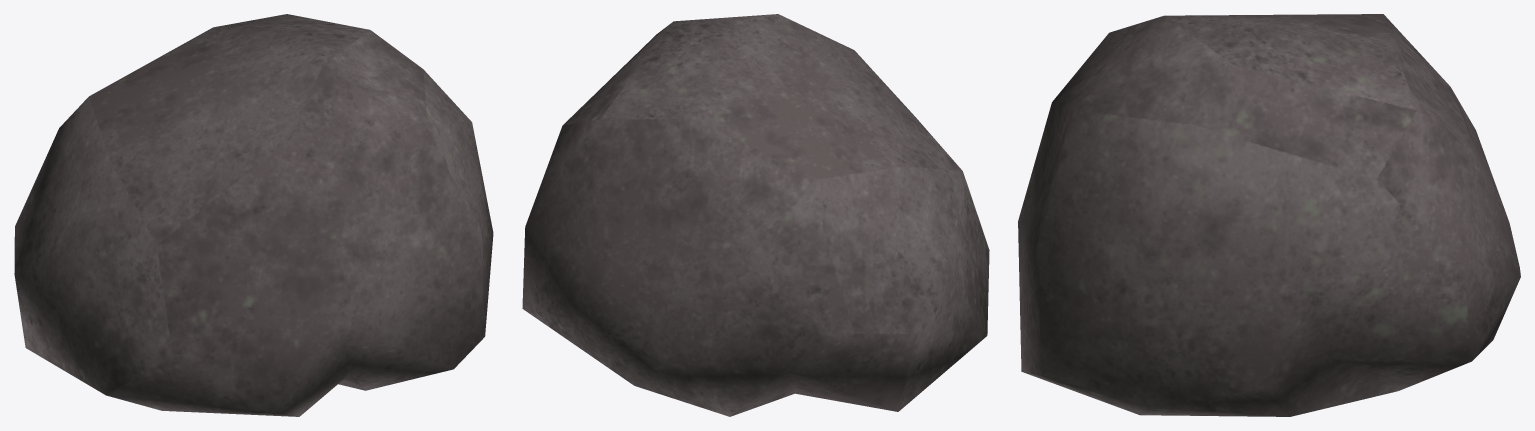
File: SM_SmallRock1.fbx
3 views of the same model, side by side, from view 1: azimuth 30°, elevation 25°; view 2: azimuth 150°, elevation 25°; view 3: azimuth 270°, elevation 25° (orthographic). The views are drawn at different scales.
Visible parts, largest first — view 1: SM_SmallRock1_LOD0; view 2: SM_SmallRock1_LOD0; view 3: SM_SmallRock1_LOD0.
Boxes of the visible parts, x1,y1,x2,y2 form: SM_SmallRock1_LOD0: (14,14,493,416); SM_SmallRock1_LOD0: (522,14,989,416); SM_SmallRock1_LOD0: (1018,14,1520,416).
Bounding box in the file's own units: 42.13 × 40.49 × 31.49.
Materials: 1 (1 with a texture image).
